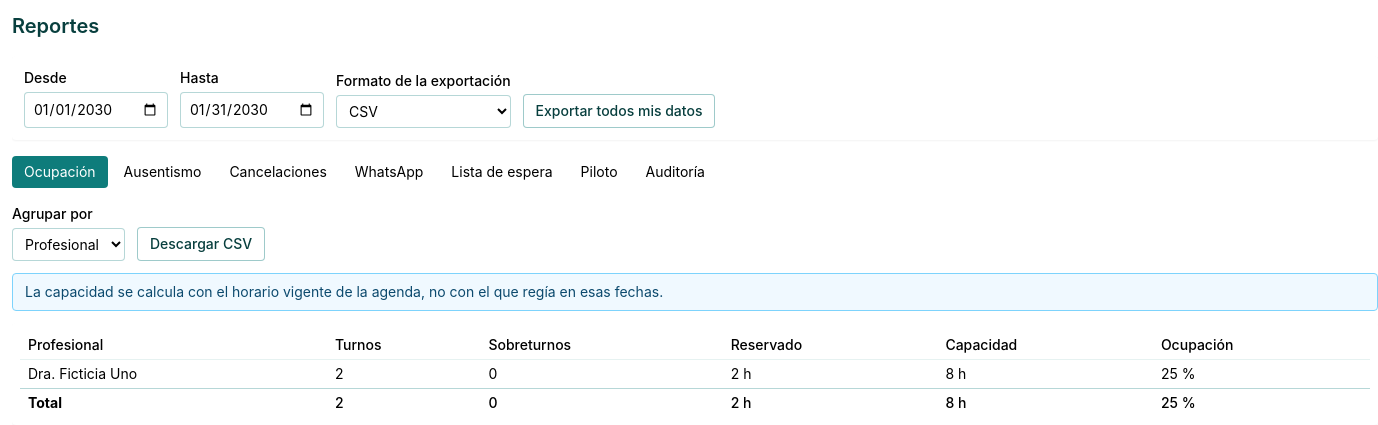
Test case: ReportsPage › sin datos muestra un mensaje de vacío, no una tabla de ceros
The image size is (1378, 425).
Click the tab "Cancelaciones".
click(278, 172)  # box [217,156,339,188]
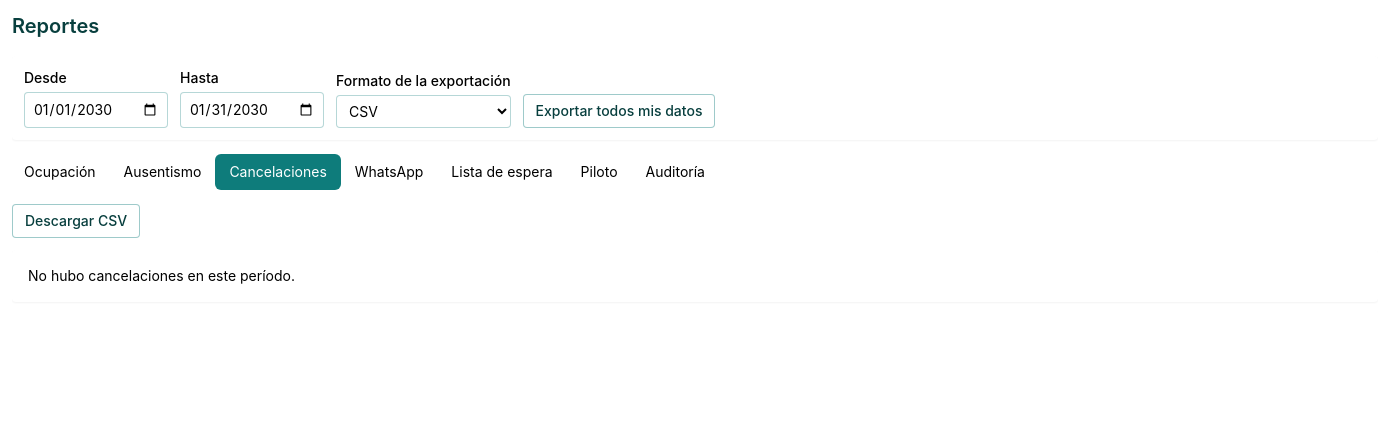
Expected: the text "No hubo cancelaciones en este período." is shown, [12,250,1377,302]
Expected: the table is gone
